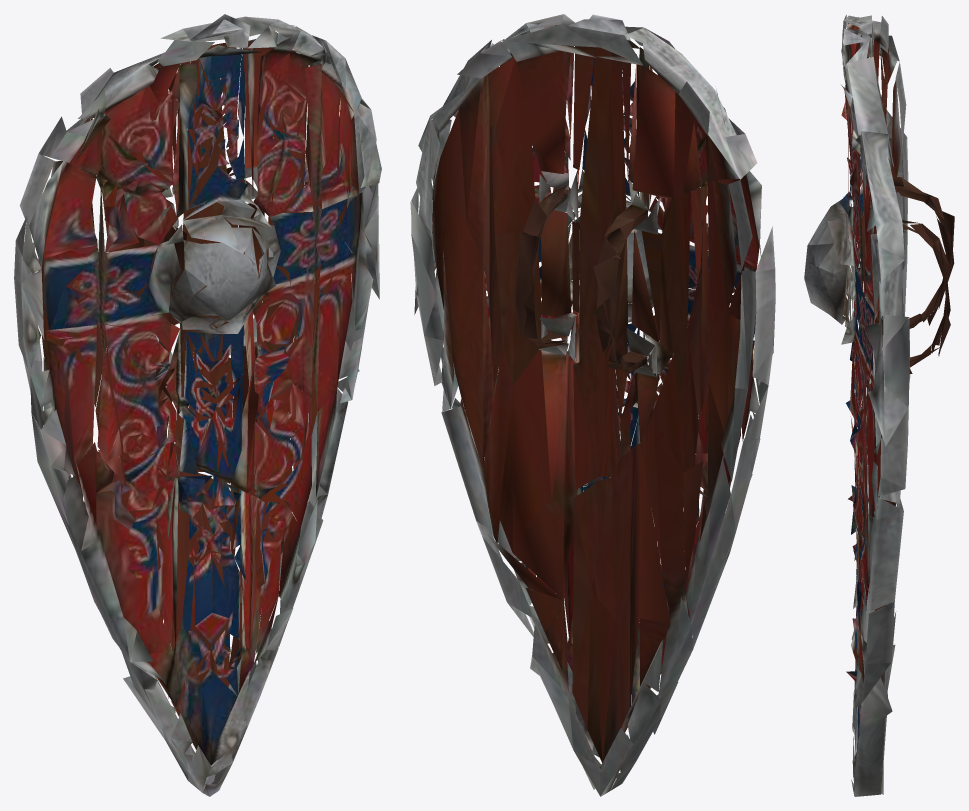
Rendered from qalqon_uchli.glb.
The picture shows the model from 3 angles, left to right: view 1: azimuth 30°, elevation 25°; view 2: azimuth 150°, elevation 25°; view 3: azimuth 270°, elevation 25°; orthographic projection.
Visible parts, largest first — view 1: qalqon_uchli; view 2: qalqon_uchli; view 3: qalqon_uchli.
Boxes of the visible parts, x1,y1,x2,y2 form: qalqon_uchli: (14,14,381,796); qalqon_uchli: (410,14,775,796); qalqon_uchli: (804,14,954,796).
Size of the model in its own units: 0.3842 by 0.7844 by 0.139.
1 material, 1 textured.
